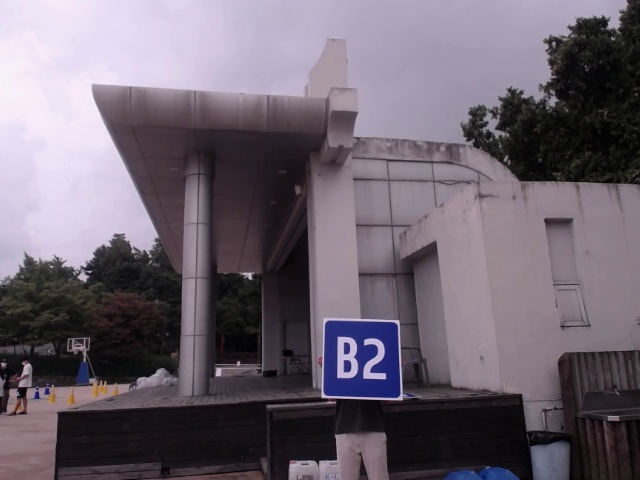delivery_b2: (324, 318, 402, 399)
